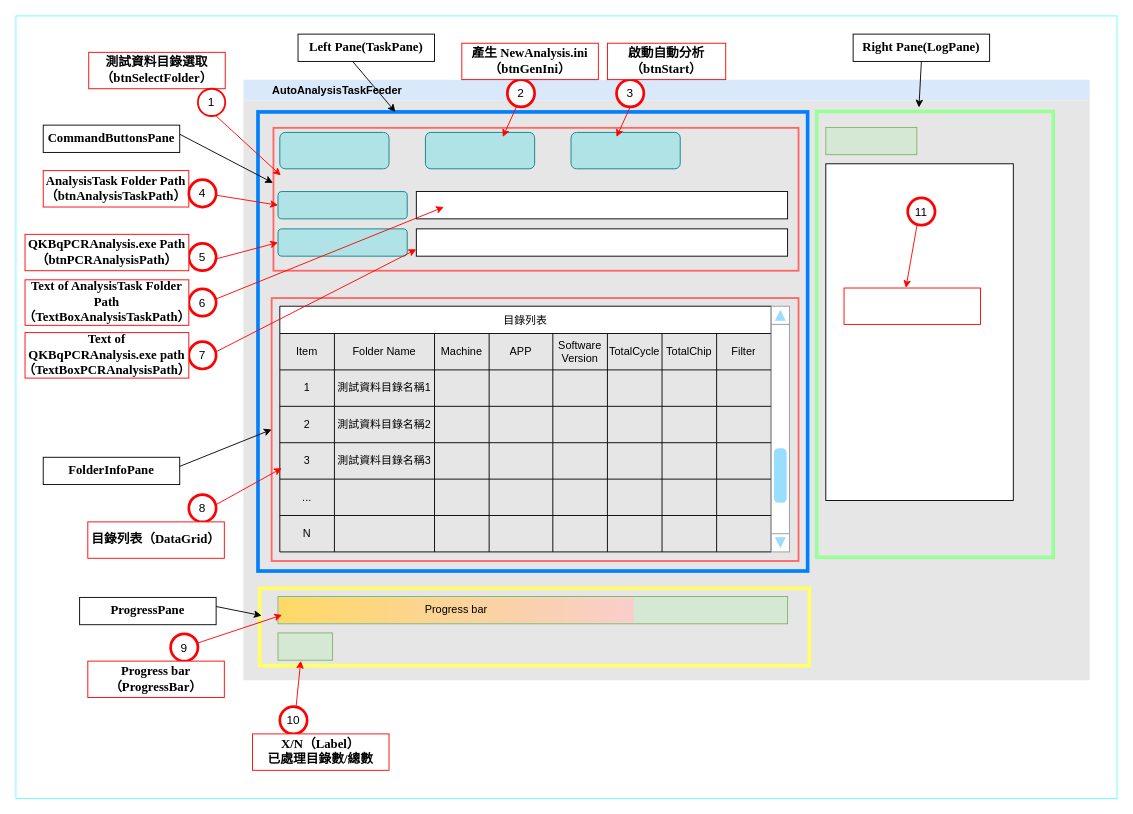
The diagram is 1133 pixels wide and 814 high, and some of its shapes have lost their labels. Here are the shapes that lost their labels. From the top down, the centre of each, then its label:
At [334,150]: "測試資料目錄選取".
At [480,150]: "產生NewAnalysis.ini".
At [625,150]: "啟動自動分析程式".
At [871,140]: "ProcessingLog".
At [342,205]: "AnalysisTask Folder".
At [342,242]: "QKBqPCRAnalysis Path".
At [912,305]: "ProcessingLog（TextBox/RichTextBox）".
At [305,646]: "X/N".
